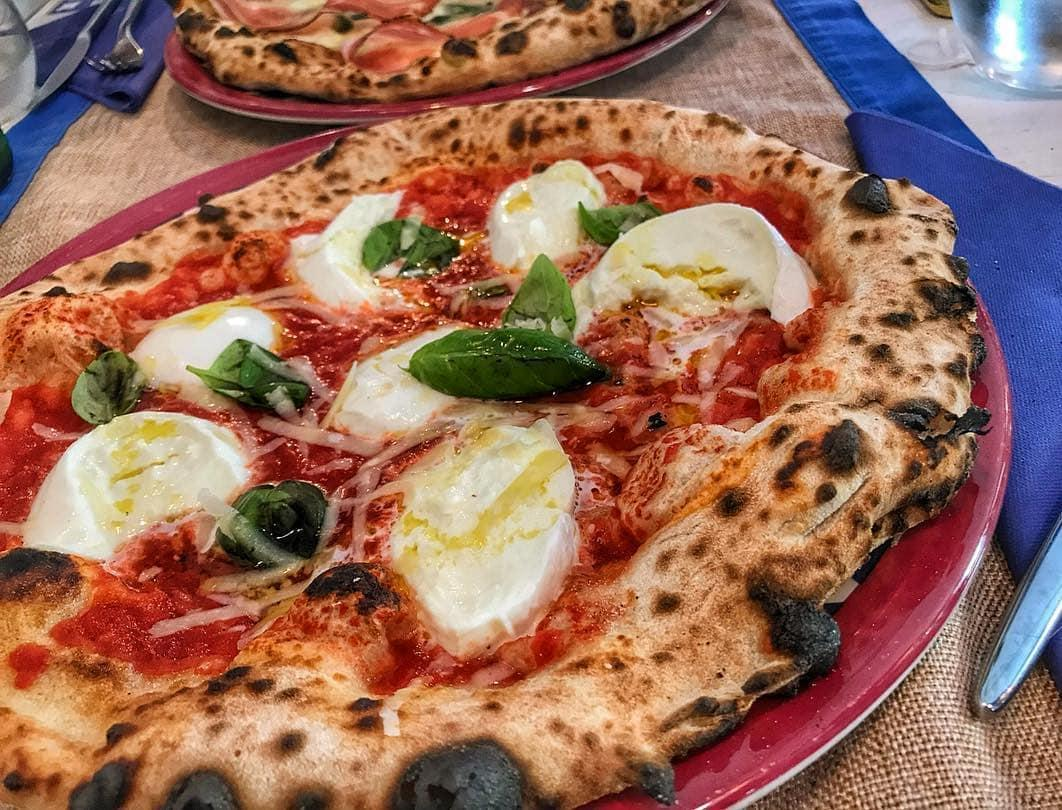Basil: (431, 331, 610, 401), (209, 474, 316, 566), (186, 337, 310, 413), (66, 340, 139, 426), (502, 257, 576, 341), (574, 192, 667, 240), (366, 229, 451, 272)
Cheese: (377, 434, 576, 629), (582, 200, 819, 327), (24, 417, 253, 547), (494, 161, 606, 270), (331, 349, 449, 445), (303, 203, 411, 299), (143, 306, 272, 380)
Pizza: (0, 104, 975, 810), (166, 0, 720, 88)
